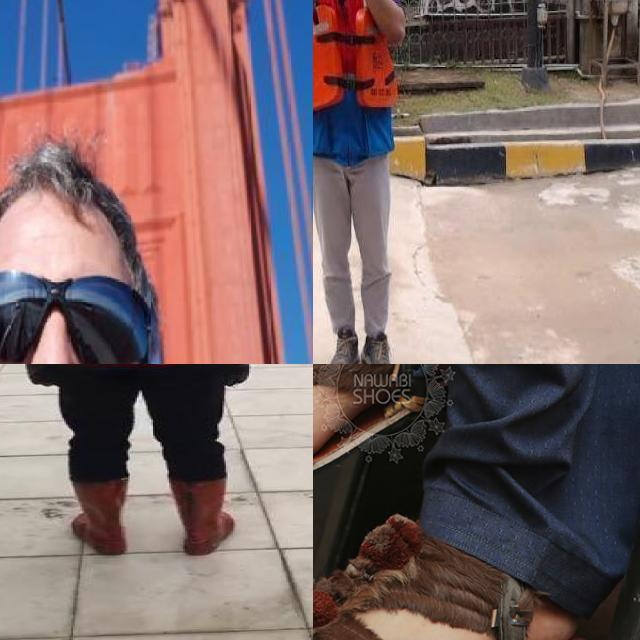Sandals: (313, 514, 588, 640)
boots: (169, 477, 237, 556), (68, 477, 130, 556), (357, 329, 401, 364), (328, 322, 363, 364)
face_nomask: (0, 287, 144, 364)
glasses: (0, 269, 159, 364)
hand_glove: (28, 364, 60, 387), (222, 364, 252, 388)
head_nohelmet: (0, 157, 157, 232)
person: (0, 364, 275, 560), (313, 0, 452, 364)
vest: (313, 0, 404, 169)
